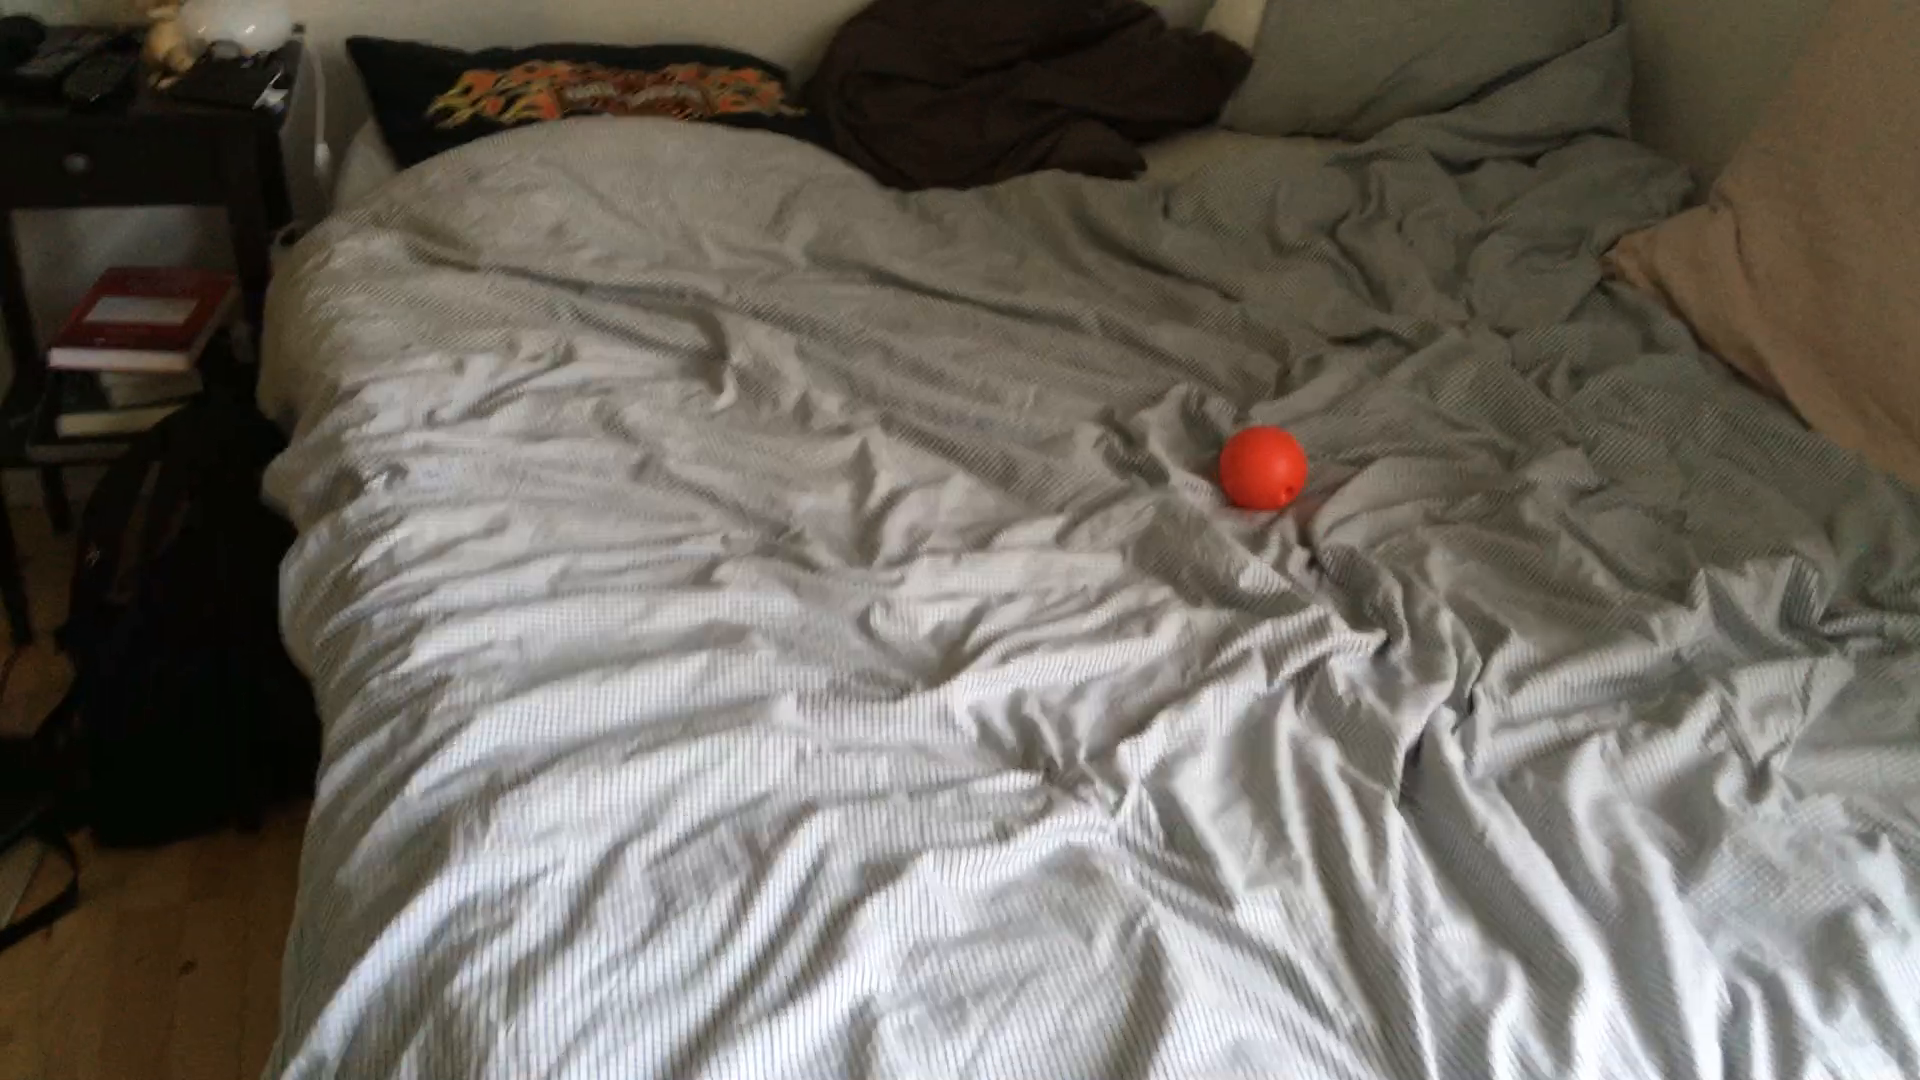Ball: (1217, 425, 1312, 516)
